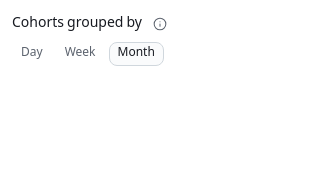
a reason two options share is one reason › states it once, not once per option
Hover over the button named "What this means" at (160, 24), box left=148, top=12, right=172, bottom=36
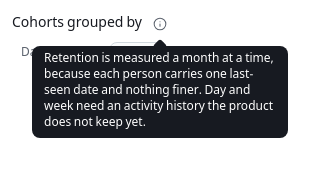
Result: the text "Retention is measured a month at a time, because each person carries one last-seen date and nothing finer. Day and week " is shown once at left=44, top=52, right=276, bottom=132
